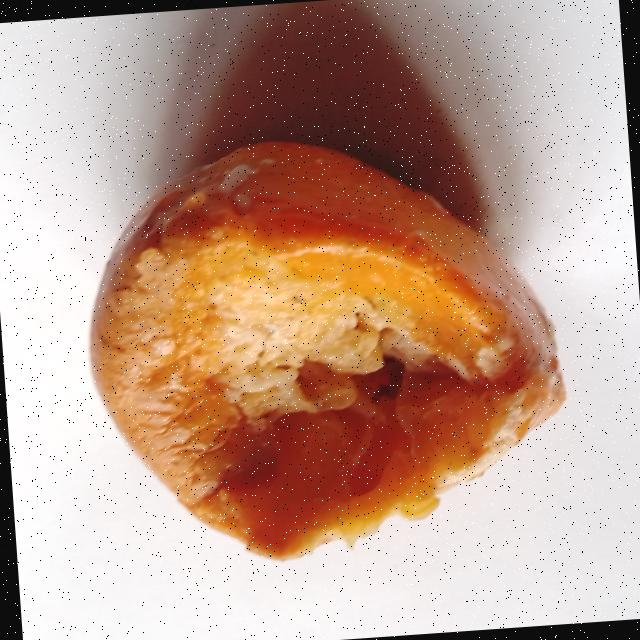Rotten: (73, 116, 577, 575)
